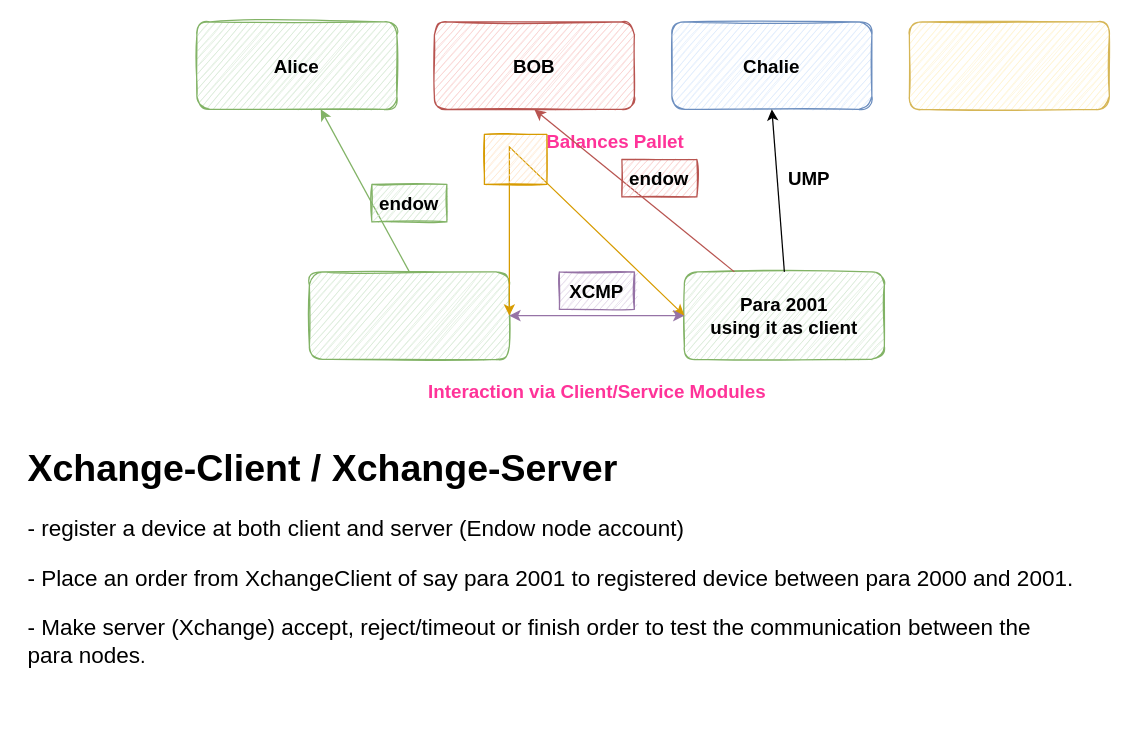
Some shapes in this 1131 by 756 pixel diagram are drawn without their labels. The box of each missing label's shape, as (x1, y1, x2, y2) in pixels:
Dave: (908, 21, 1109, 109)
HRMP: (483, 133, 547, 184)
Para 2000 using as server: (308, 271, 509, 359)
